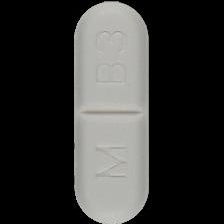43353-607: (0, 0, 224, 224)
